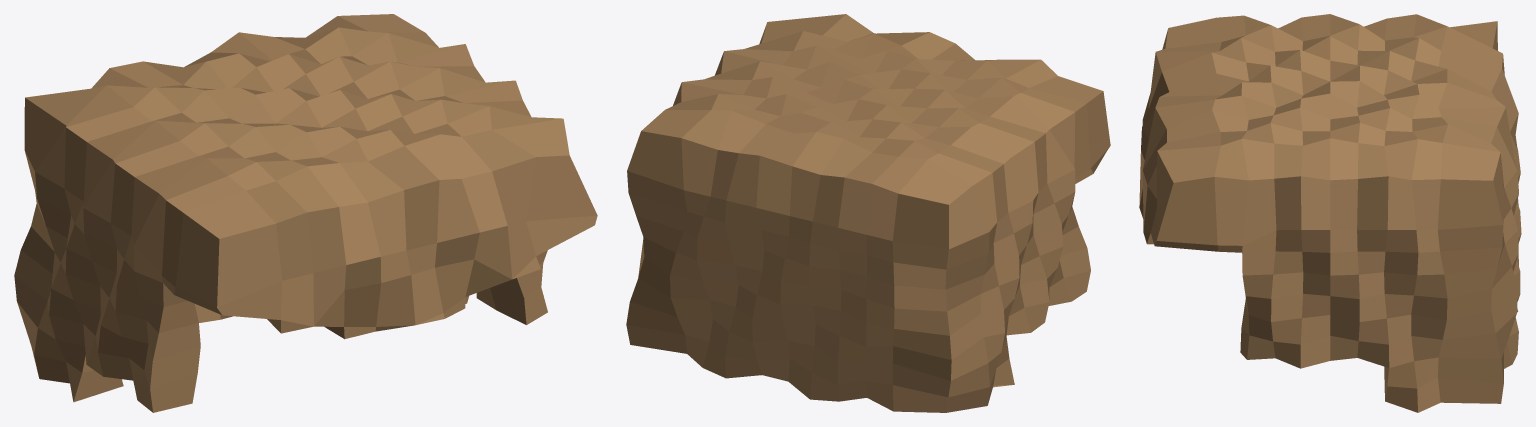
Rendered from hair-curly-brown.glb.
The picture shows the model from 3 angles, left to right: view 1: azimuth 30°, elevation 25°; view 2: azimuth 150°, elevation 25°; view 3: azimuth 270°, elevation 25°; orthographic projection. The views are drawn at different scales.
Parts seen in each view (by area): view 1: hair_shell; view 2: hair_shell; view 3: hair_shell.
Part boxes in pixels (bbox=[...]): hair_shell: bbox=[14, 14, 597, 412]; hair_shell: bbox=[626, 14, 1110, 412]; hair_shell: bbox=[1139, 14, 1521, 412].
Bounding box in the file's own units: 0.4527 × 0.296 × 0.4122.
